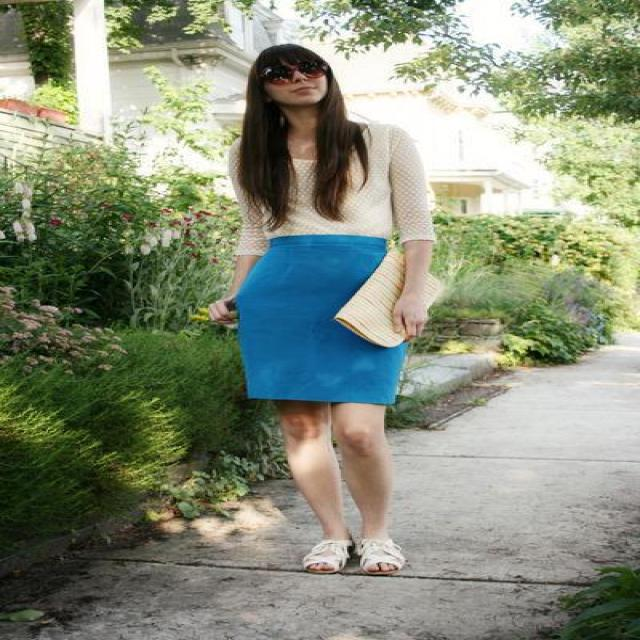bag: (334, 252, 402, 344)
shirt: (212, 123, 446, 255)
shoe: (304, 536, 406, 570)
skirt: (236, 235, 407, 405)
sunglass: (272, 72, 326, 102)
